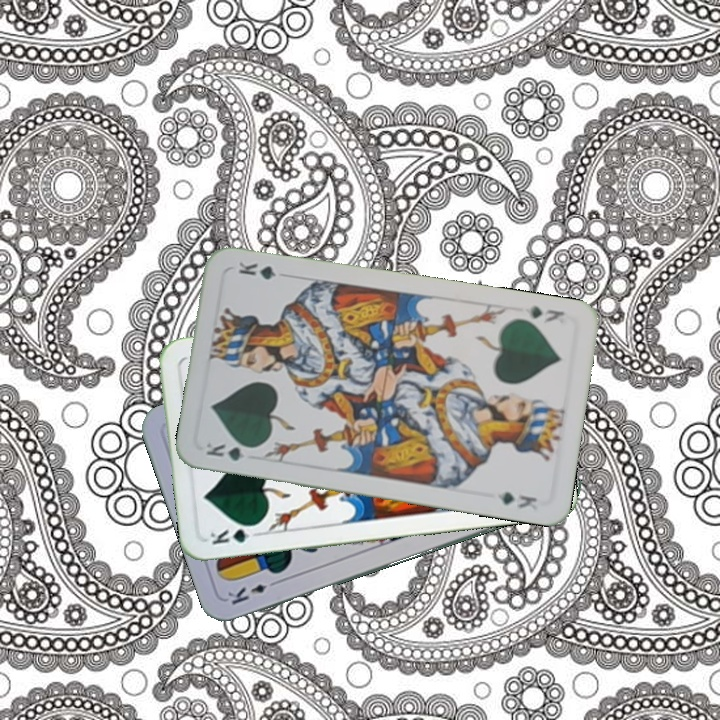EK: (223, 575, 282, 608)
GK: (206, 520, 263, 547), (202, 438, 260, 464), (526, 302, 568, 326)
